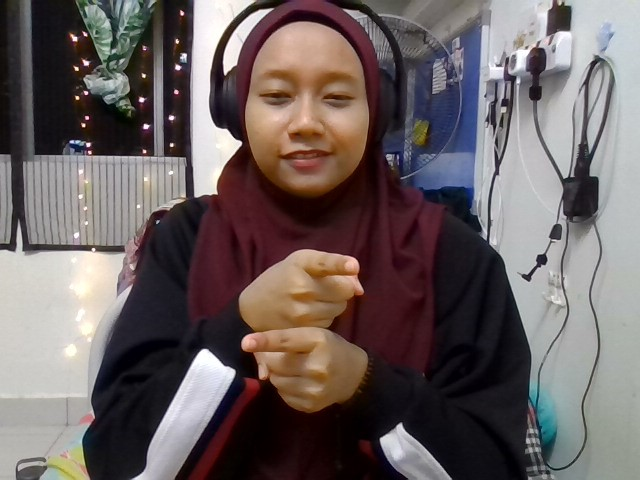Betul: (241, 249, 364, 412)
